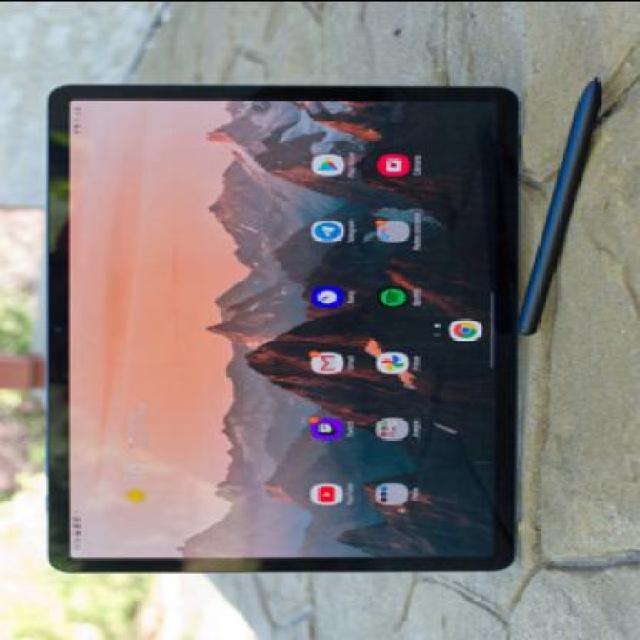tablet: (48, 51, 555, 590)
